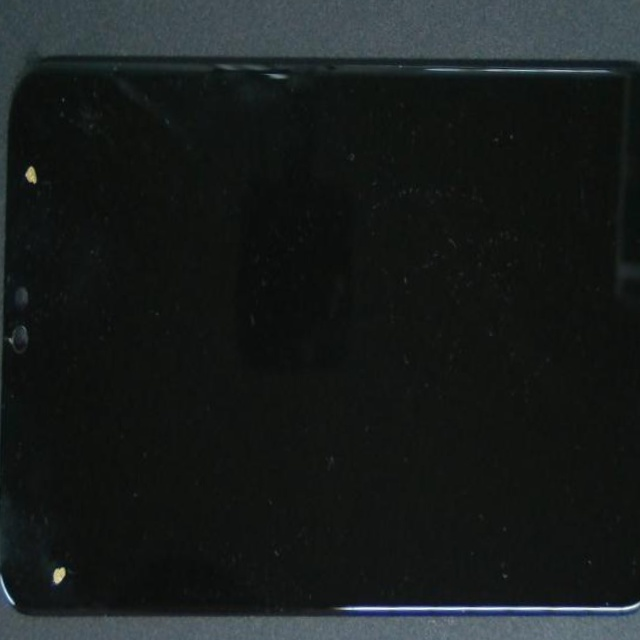stain: (13, 188, 121, 640), (14, 19, 68, 251)
